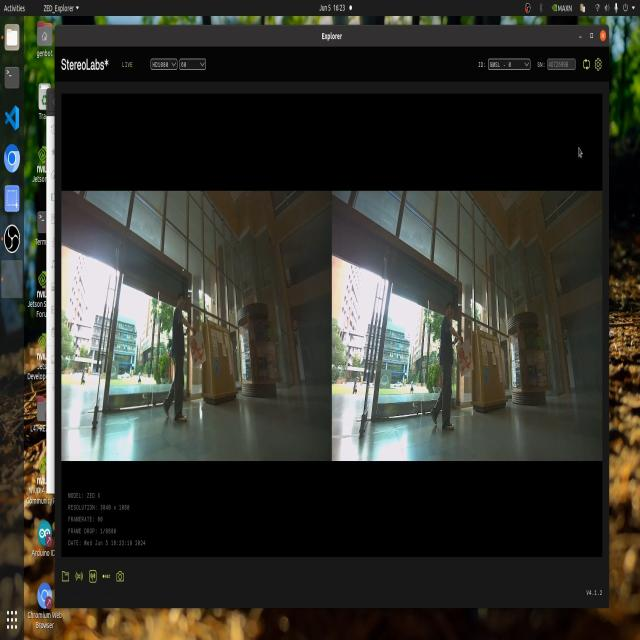red: (454, 344, 479, 378), (186, 329, 203, 374)
